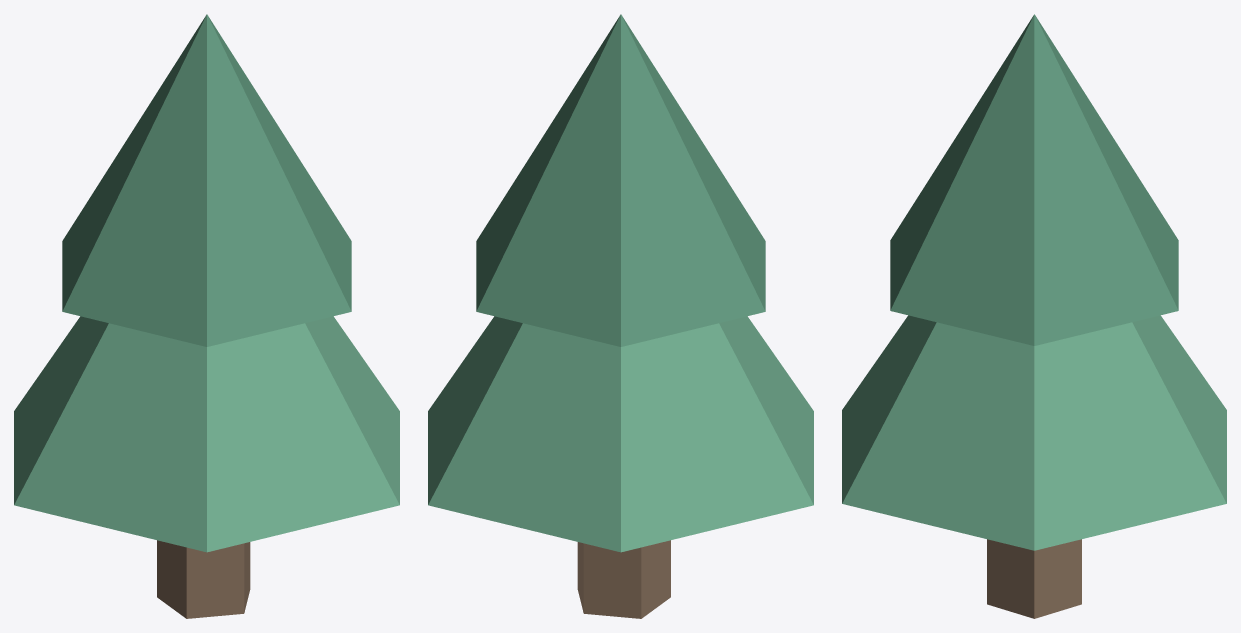
The model's file is Tree.glb.
3 views of the same model, side by side, from view 1: azimuth 30°, elevation 25°; view 2: azimuth 150°, elevation 25°; view 3: azimuth 270°, elevation 25° (orthographic).
Visible parts, largest first — view 1: Tree; view 2: Tree; view 3: Tree.
Part boxes in pixels (box(x1,y1,x2,y2)): Tree: box(14, 14, 399, 618); Tree: box(428, 14, 813, 618); Tree: box(842, 14, 1226, 618).
Bounding box in the file's own units: 4 × 5.8 × 3.46.
